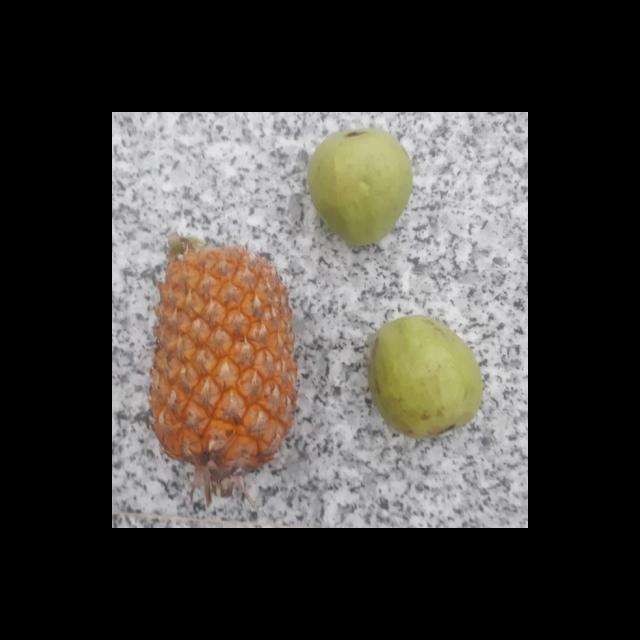guava: (361, 314, 482, 438), (302, 130, 415, 242)
pineapple: (148, 231, 294, 489)
